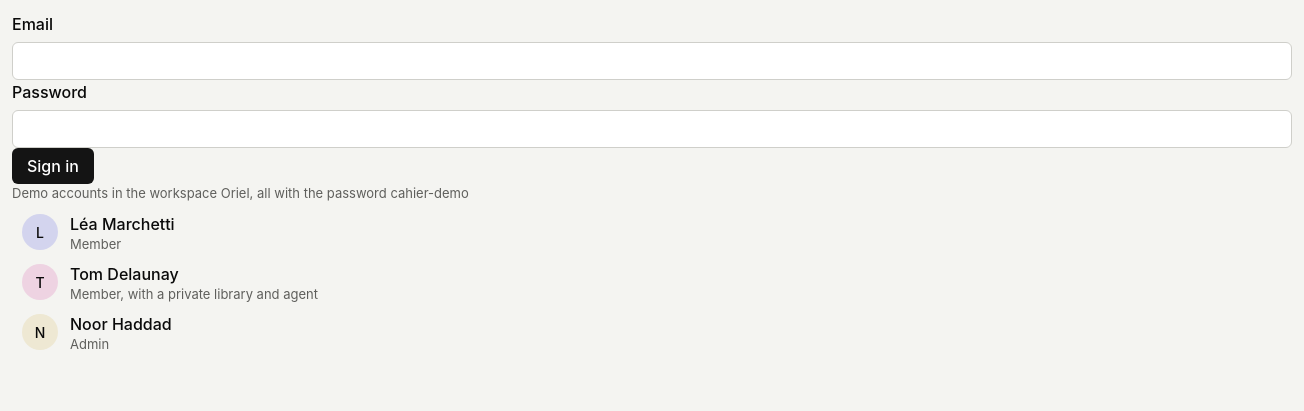
Test case: the sign-in form › sends the trimmed values and shows the server's answer when it refuses
In the field labelled "Email": {"x": 652, "y": 61} [12,42,1292,80], type "  lea@example.com "
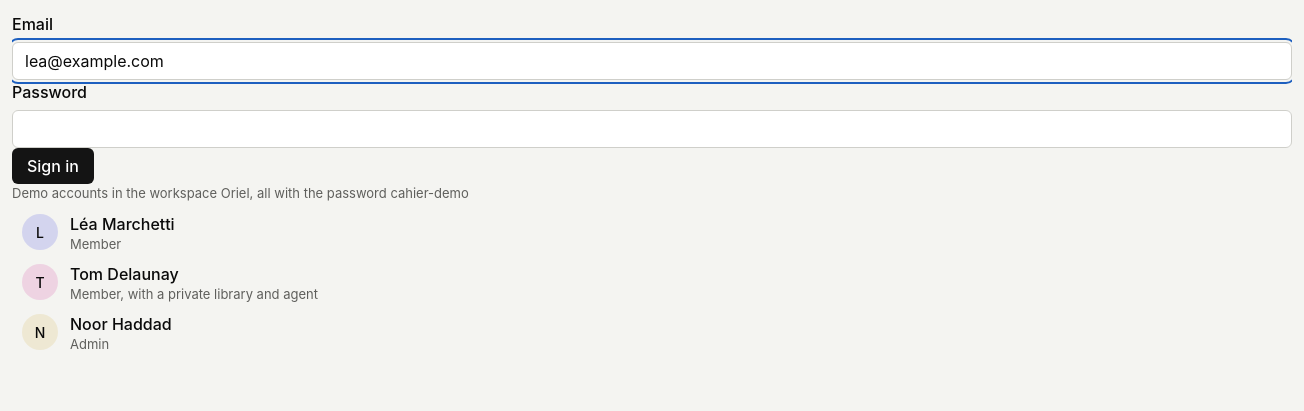
In the password field labelled "Password": {"x": 652, "y": 129} [12,110,1292,148], type "cahier-demo"
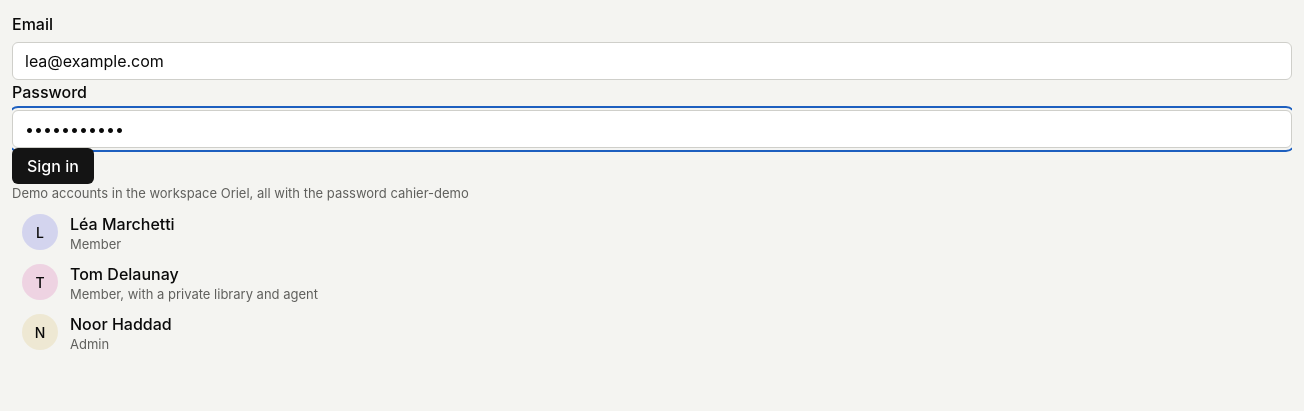
Click the button "Sign in": {"x": 53, "y": 166} [12,148,94,184]
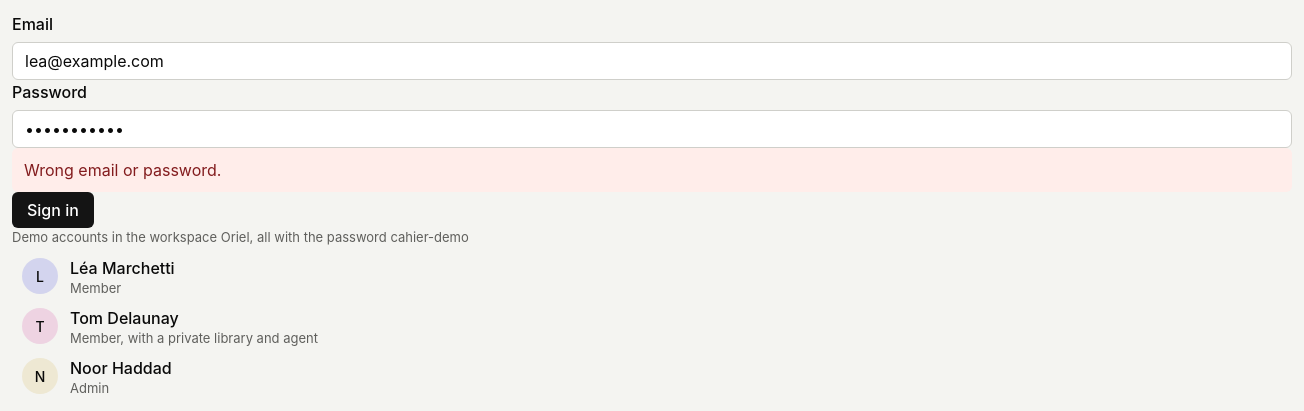
Now the message reads "Wrong email or password.", box [24,160,221,180]
